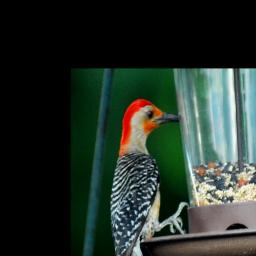Woodpecker: (107, 98, 188, 256)
